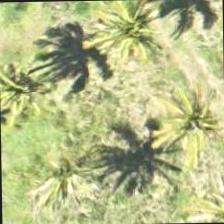Kelapa_Sawit: (26, 136, 119, 223), (72, 0, 164, 80), (147, 78, 223, 171), (0, 50, 59, 142)
